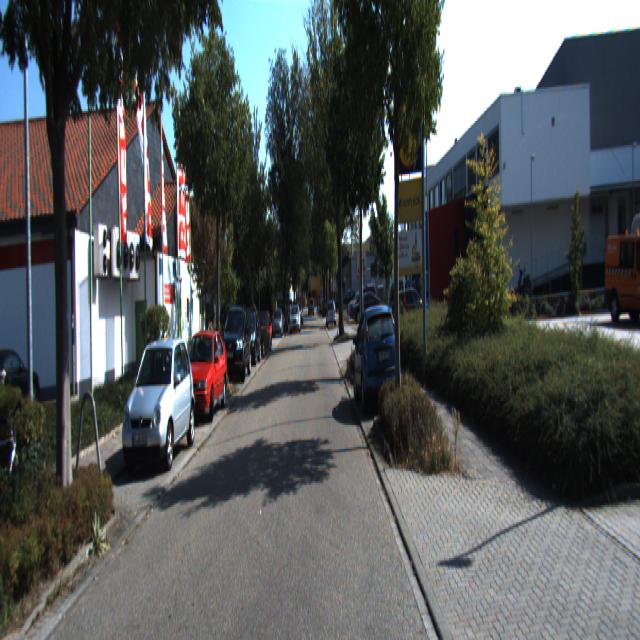Car: (121, 334, 195, 475), (352, 301, 400, 414), (178, 328, 228, 423), (603, 224, 639, 328), (220, 308, 253, 388), (237, 309, 262, 369)
